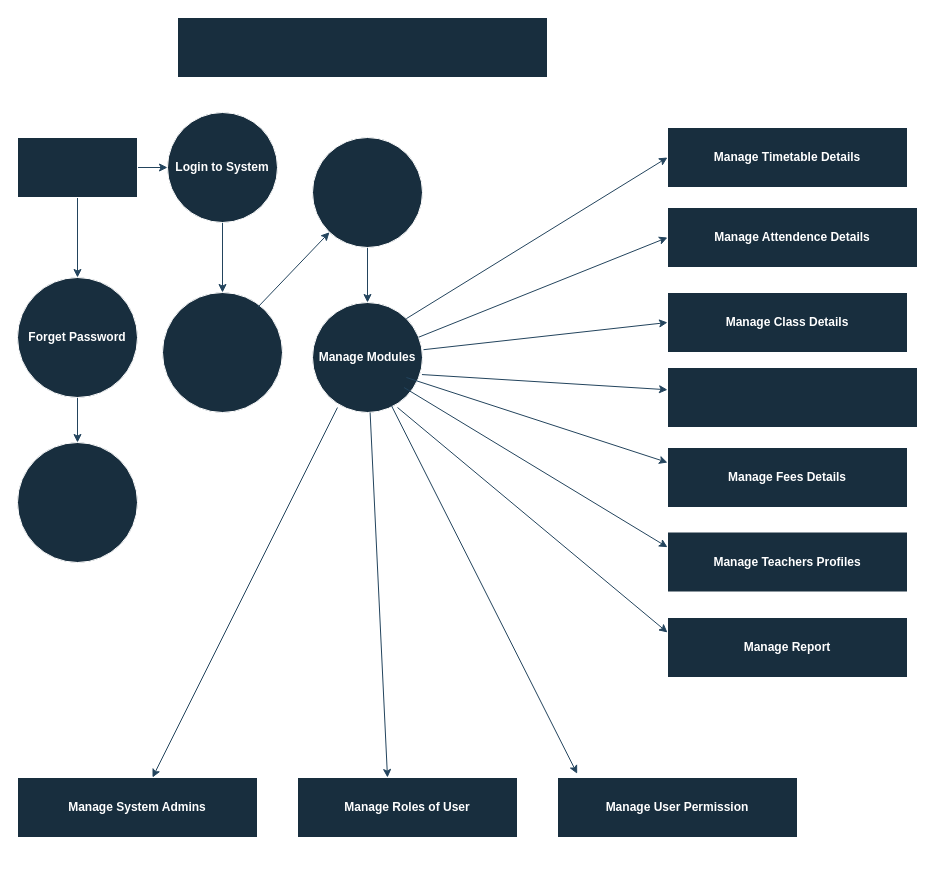
This 935x893 diagram has some shape labels left out. Here are the shapes that lost their labels. From the top down, the centre of each, then its label:
At pixel 362 47: "Student Information System".
At pixel 77 167: "Admin".
At pixel 367 192: "Check roles of access".
At pixel 222 352: "Check Balance".
At pixel 792 397: "Manage Student Details".
At pixel 77 502: "Send Email To User".
